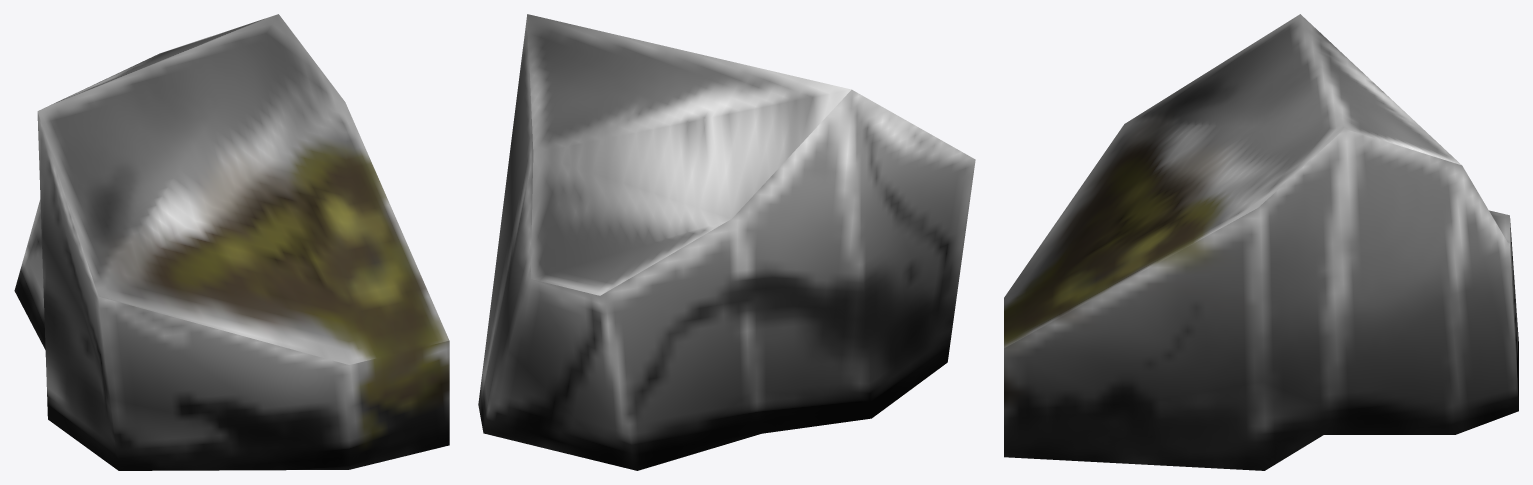
Rendered from SM_Rock_04.fbx.
The picture shows the model from 3 angles, left to right: view 1: azimuth 30°, elevation 25°; view 2: azimuth 150°, elevation 25°; view 3: azimuth 270°, elevation 25°; orthographic projection. The views are drawn at different scales.
Visible parts, largest first — view 1: Roca 3; view 2: Roca 3; view 3: Roca 3.
Part boxes in pixels (box(x1,y1,x2,y2)): Roca 3: box(14, 14, 449, 470); Roca 3: box(478, 14, 975, 470); Roca 3: box(1004, 14, 1518, 470).
Size of the model in its own units: 2.97 by 3.04 by 4.1.
Materials: 1 (1 with a texture image).
